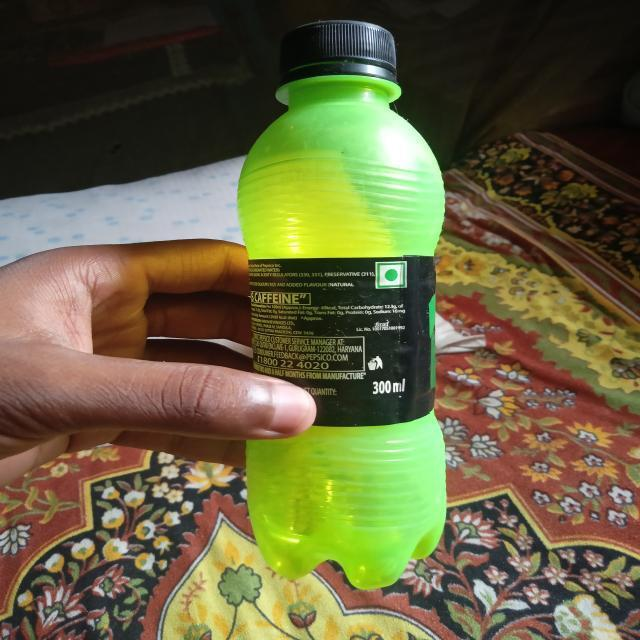plastic_bottle: (238, 21, 446, 590)
